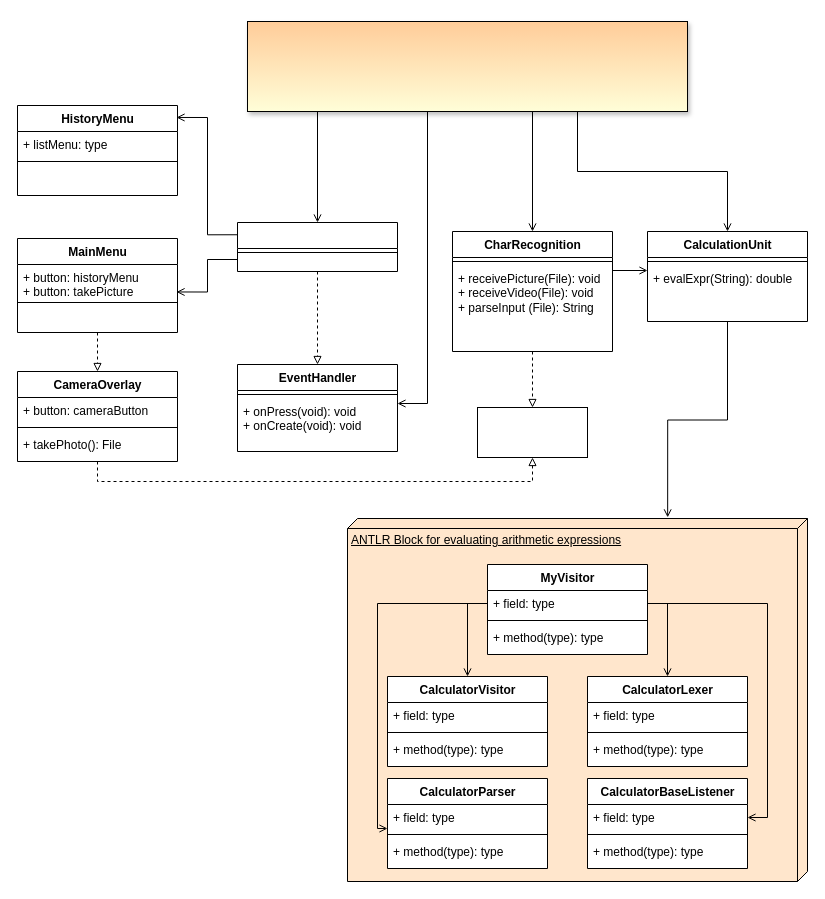
This 825x899 diagram has some shape labels left out. The centre of each missing label's shape, as x and y in pixels:
"Main +initMathinator() : int" belongs at (x=468, y=67).
"UserInterface" belongs at (x=317, y=247).
"«interface» DataPipe" belongs at (x=532, y=432).
